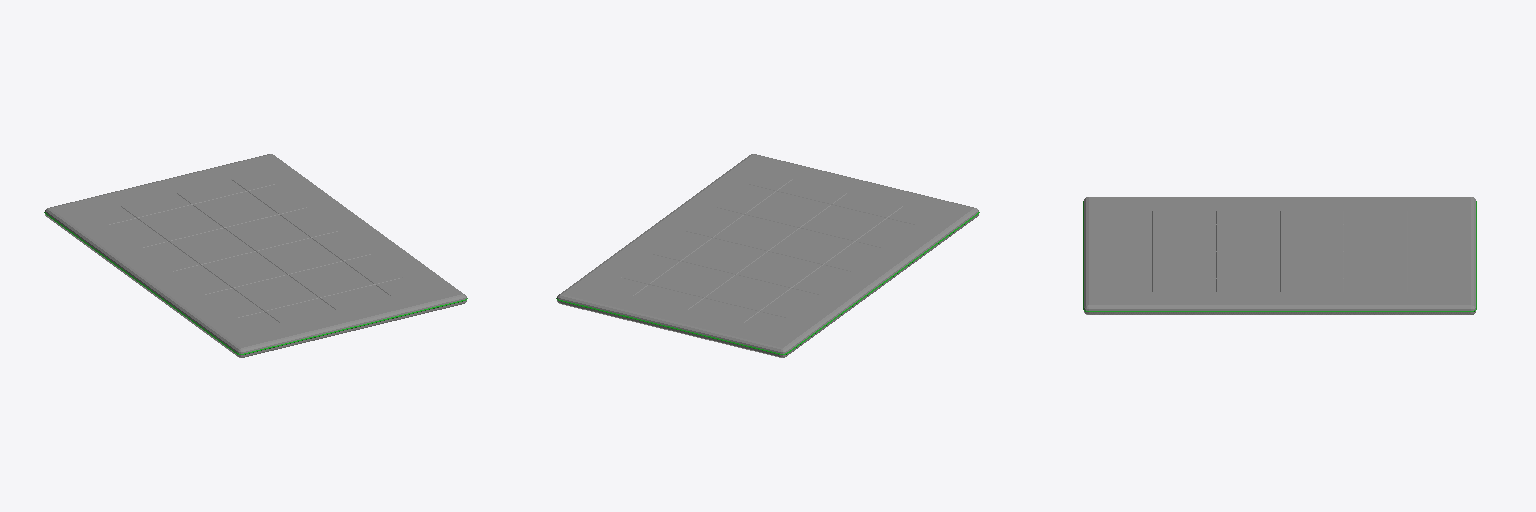
3 renders of one model, left to right at view 1: azimuth 30°, elevation 25°; view 2: azimuth 150°, elevation 25°; view 3: azimuth 270°, elevation 25°, orthographic.
Parts seen in each view (by area): view 1: green; view 2: green; view 3: green.
Boxes of the visible parts, <box> form: green: <box>44,154,467,357</box>; green: <box>556,154,979,357</box>; green: <box>1083,197,1476,314</box>.
Bounding box in the file's own units: 3.66 × 0.1459 × 5.41.
3 materials, 1 textured.